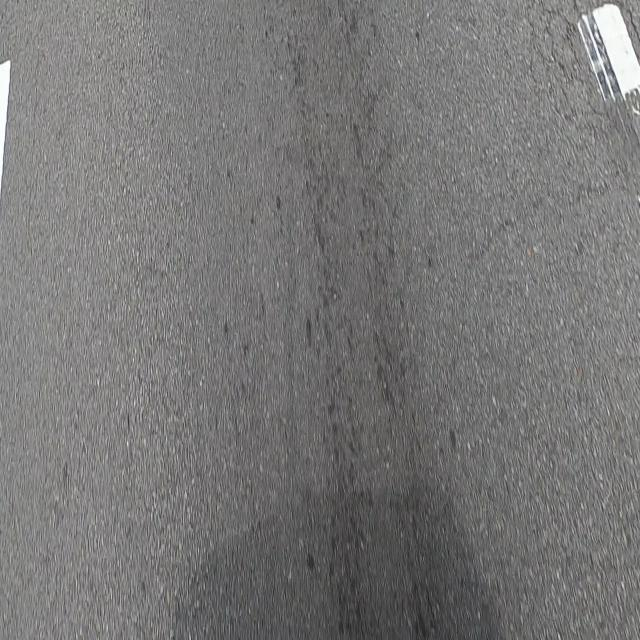Retak-Buaya: (521, 2, 622, 129)
